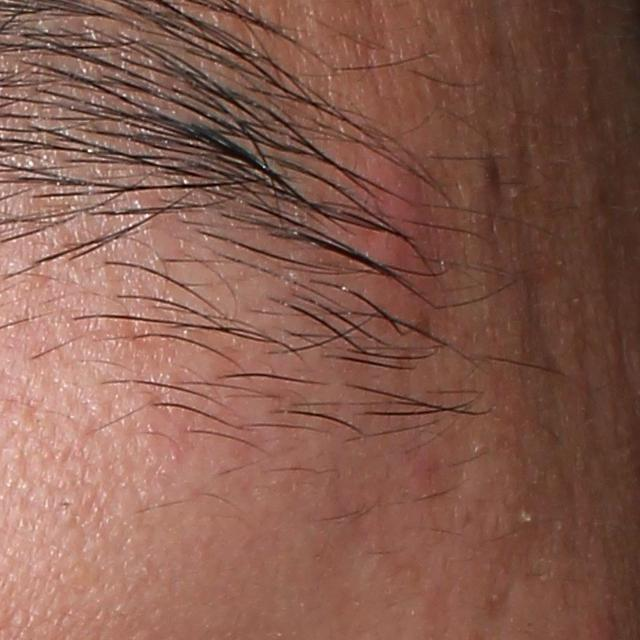nevus: (479, 148, 508, 194)
